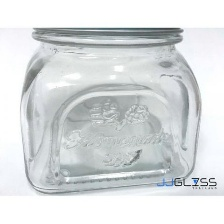bottle: (15, 23, 204, 195)
